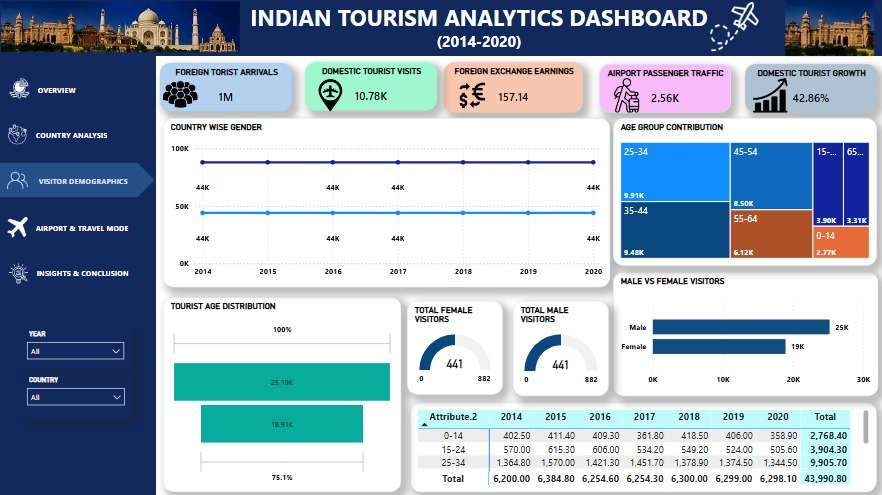

What the dashboard file says about the page in this screenshot:
{"tool":"powerbi","page":{"name":"VISITOR DEMOGRAPHICS","canvas":[1280,720],"ordinal":2},"visuals":[{"type":"shape","box":[0,76.3,224.6,643.7],"z":0},{"type":"actionButton","box":[50.4,119.5,99.4,25.9],"z":1000},{"type":"cardVisual","title":" FOREIGN TORIST ARRIVALS","fields":{"Data":["Sum(General Data 2014-2020.feeftit)"]},"box":[230.4,93.6,190,70],"z":2000},{"type":"cardVisual","title":"AIRPORT PASSENGER TRAFFIC","fields":{"Data":["Sum(General Data 2014-2020.apfitr)"]},"box":[862.6,95,190,70],"z":3000},{"type":"pivotTable","title":"TOURISTS BY AGE GROUP","fields":{"Rows":["Country Wise Age Group.Attribute.2"],"Columns":["Country Wise Age Group.Attribute.1"],"Values":["Sum(Country Wise Age Group.Value)"]},"box":[590.4,581.8,672.5,129.6],"z":4000},{"type":"cardVisual","title":" FOREIGN EXCHANGE EARNINGS","fields":{"Data":["Sum(General Data 2014-2020.feeftust)"]},"box":[639.4,92.2,200,73.4],"z":5000},{"type":"cardVisual","title":"DOMESTIC TOURIST VISITS","fields":{"Data":["Sum(General Data 2014-2020.nodtvasu)"]},"box":[438.8,92.2,190,70],"z":6000},{"type":"slicer","fields":{"Values":["Country Wise Airport.Attribute.1"]},"box":[28.8,472.3,159.8,61.9],"z":7000},{"type":"funnel","title":"TOURIST AGE DISTRIBUTION","fields":{"Category":["Country Wise Gender.Attribute.2"],"Y":["Sum(Country Wise Gender.Value)"]},"box":[234.7,430.6,342.7,280.8],"z":8000},{"type":"stackedAreaChart","title":"COUNTRY WISE GENDER","fields":{"Category":["Country Wise Gender.Attribute.1"],"Y":["Sum(Country Wise Age Group.Value)"],"Series":["Country Wise Gender.Attribute.2"]},"box":[234.3,172.1,643.6,244.4],"z":9000},{"type":"image","box":[12.7,115,30,30],"z":10000},{"type":"clusteredBarChart","title":"MALE VS FEMALE VISITORS","fields":{"Y":["Sum(Country Wise Gender.Value)"],"Category":["Country Wise Gender.Attribute.2"]},"box":[882.7,394.6,381.6,178.6],"z":11000},{"type":"image","box":[9.9,182,30,30],"z":12000},{"type":"actionButton","box":[47.5,182.2,130.4,29.8],"z":13000},{"type":"image","box":[9.9,315.9,30,30],"z":14000},{"type":"actionButton","box":[47.5,315.8,151.2,30.2],"z":15000},{"type":"image","box":[9.9,247.5,30,30],"z":16000},{"type":"actionButton","box":[51.8,247.4,148.3,30.2],"z":17000},{"type":"shape","box":[0,0,1278.7,83.5],"z":18000},{"type":"image","box":[1006.6,5.8,102.2,70.6],"z":19000},{"type":"cardVisual","title":"DOMESTIC TOURIST GROWTH","fields":{"Data":["Avg(General Data 2014-2020.nodtvasuagr)"]},"box":[1072.8,95,190,70],"z":20000},{"type":"textbox","box":[326.9,0,725.8,89.3],"z":21000},{"type":"actionButton","box":[49,381.6,148.3,27.4],"z":24000},{"type":"image","box":[11.3,381.5,30,30],"z":26000},{"type":"image","box":[234.7,113.8,50,50.4],"z":28000},{"type":"image","box":[450.7,115.2,50,50],"z":29000},{"type":"image","box":[1084.3,115.2,50,50],"z":30000},{"type":"image","box":[877,115.2,50,50],"z":31000},{"type":"image","box":[655.2,115.2,50,50],"z":32000},{"type":"image","box":[1.4,0,344.2,83.5],"z":33000},{"type":"image","box":[1108.6,0,171.4,83.5],"z":34000},{"type":"shape","box":[1.4,105.1,223.2,49],"z":35000},{"type":"shape","box":[0,171.4,223.2,49],"z":36000},{"type":"shape","box":[0,237.6,223.2,49],"z":37000},{"type":"shape","box":[0,303.8,223.2,49],"z":38000},{"type":"shape","box":[0,373,223.2,49],"z":41000},{"type":"slicer","fields":{"Values":["Country Wise Age Group.Country of Nationality"]},"box":[28.8,538.6,161.3,66.2],"z":42000},{"type":"treemap","title":"AGE GROUP CONTRIBUTION","fields":{"Group":["Country Wise Age Group.Attribute.2"],"Values":["Sum(Country Wise Age Group.Value)"]},"box":[882.7,172.8,380.2,213.1],"z":43000},{"type":"gauge","title":"TOTAL FEMALE VISITORS","fields":{"Y":["CountNonNull(Country Wise Gender.Attribute.2)"]},"box":[586.1,436.3,138.2,135.4],"z":43001},{"type":"gauge","title":"TOTAL MALE VISITORS","fields":{"Y":["CountNonNull(Country Wise Gender.Attribute.2)"]},"box":[738.7,436.3,138.2,136.8],"z":43002}]}

Visuals, with their boxes on the page's 1280x720 design canvas (x1, y1, x2, y2). These are canvas units, not pixel positions in the 882x495 screenshot, which may show the page scaled, cropped or inside an application window:
shape: 0:76:225:720
actionButton: 50:120:150:145
" FOREIGN TORIST ARRIVALS" cardVisual: 230:94:420:164
"AIRPORT PASSENGER TRAFFIC" cardVisual: 863:95:1053:165
"TOURISTS BY AGE GROUP" pivotTable: 590:582:1263:711
" FOREIGN EXCHANGE EARNINGS" cardVisual: 639:92:839:166
"DOMESTIC TOURIST VISITS" cardVisual: 439:92:629:162
slicer - Country Wise Airport.Attribute.1: 29:472:189:534
"TOURIST AGE DISTRIBUTION" funnel: 235:431:577:711
"COUNTRY WISE GENDER" stackedAreaChart: 234:172:878:416
image: 13:115:43:145
"MALE VS FEMALE VISITORS" clusteredBarChart: 883:395:1264:573
image: 10:182:40:212
actionButton: 48:182:178:212
image: 10:316:40:346
actionButton: 48:316:199:346
image: 10:248:40:278
actionButton: 52:247:200:278
shape: 0:0:1279:84
image: 1007:6:1109:76
"DOMESTIC TOURIST GROWTH" cardVisual: 1073:95:1263:165
textbox: 327:0:1053:89
actionButton: 49:382:197:409
image: 11:382:41:412
image: 235:114:285:164
image: 451:115:501:165
image: 1084:115:1134:165
image: 877:115:927:165
image: 655:115:705:165
image: 1:0:346:84
image: 1109:0:1280:84
shape: 1:105:225:154
shape: 0:171:223:220
shape: 0:238:223:287
shape: 0:304:223:353
shape: 0:373:223:422
slicer - Country Wise Age Group.Country of Nationality: 29:539:190:605
"AGE GROUP CONTRIBUTION" treemap: 883:173:1263:386
"TOTAL FEMALE VISITORS" gauge: 586:436:724:572
"TOTAL MALE VISITORS" gauge: 739:436:877:573
